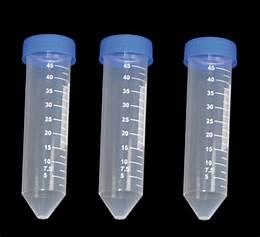Test tube: (177, 9, 237, 218), (92, 16, 150, 215), (16, 29, 72, 232)
